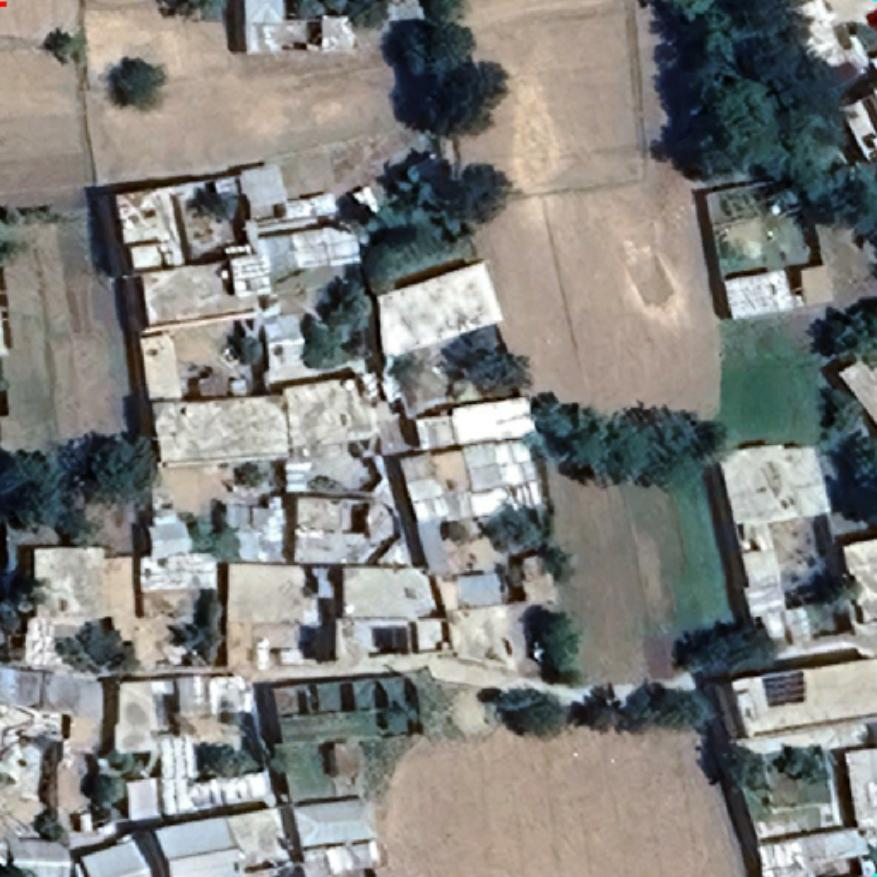Solarpanel: (759, 666, 811, 710)
